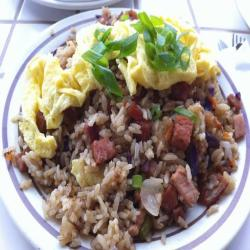rice: (73, 114, 193, 209)
